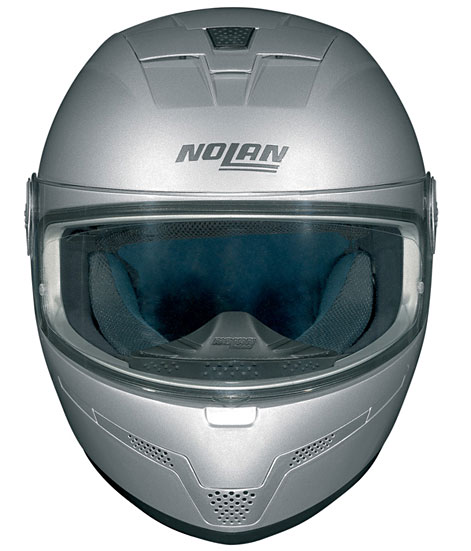helmet: (34, 17, 430, 510)
